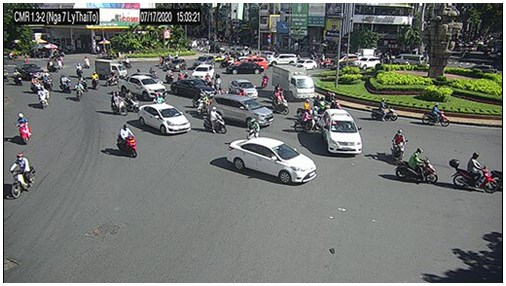xe_ban_tai: (118, 76, 168, 100)
xe_hoi: (228, 138, 316, 184), (209, 94, 273, 128), (322, 109, 363, 156), (138, 104, 191, 135), (171, 80, 216, 99), (16, 63, 46, 80), (226, 63, 264, 75), (192, 62, 214, 79), (268, 53, 297, 65), (354, 56, 380, 69), (294, 57, 318, 70)
xe_may: (448, 152, 496, 194), (395, 147, 439, 184), (8, 153, 37, 199), (116, 123, 139, 160), (421, 102, 450, 128), (293, 109, 323, 134), (202, 107, 228, 135), (15, 112, 33, 145), (373, 98, 397, 121), (391, 130, 407, 161), (295, 99, 318, 120), (111, 90, 128, 117), (271, 91, 289, 115), (246, 117, 261, 141), (323, 91, 341, 110), (38, 85, 50, 109), (59, 73, 72, 94), (30, 75, 43, 94), (105, 70, 118, 88), (90, 71, 101, 91), (75, 81, 84, 102), (163, 67, 173, 84), (74, 63, 84, 78), (261, 73, 269, 89)
xe_tai: (94, 58, 127, 78)
